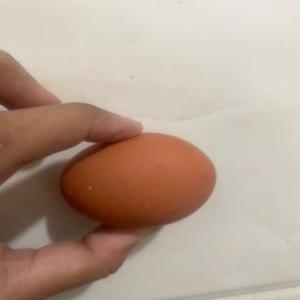egg: (60, 130, 222, 226)
